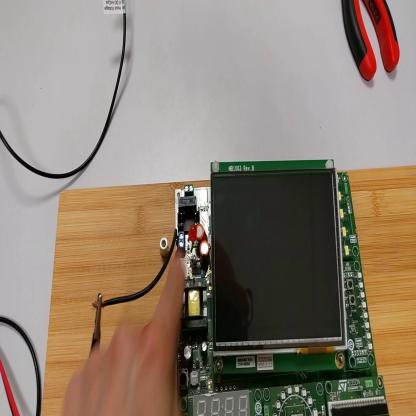hand: (62, 240, 189, 413)
low voltage board: (94, 159, 390, 416)
pliers: (341, 2, 401, 84)
working area: (43, 165, 416, 415)
